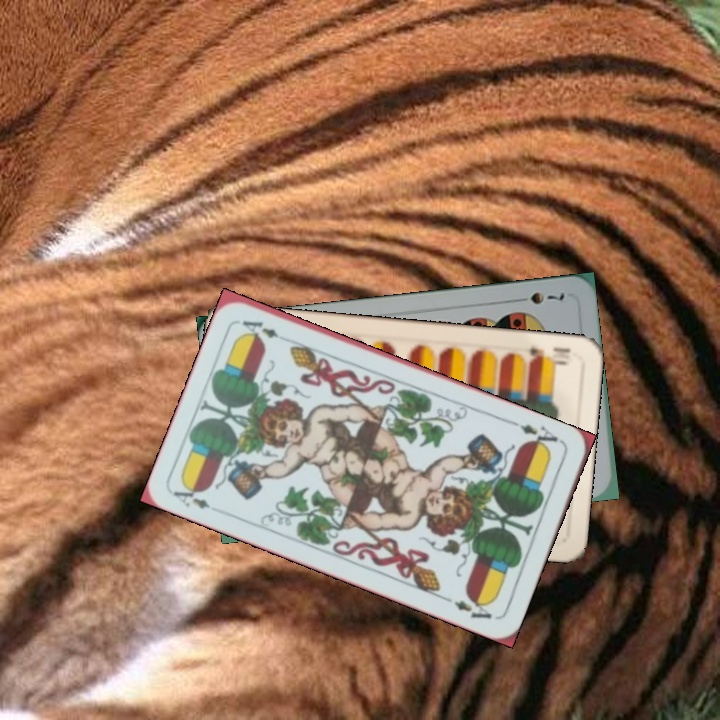E10: (526, 343, 573, 368)
EA: (509, 417, 565, 454), (169, 480, 213, 512)
S7: (511, 287, 569, 307)
